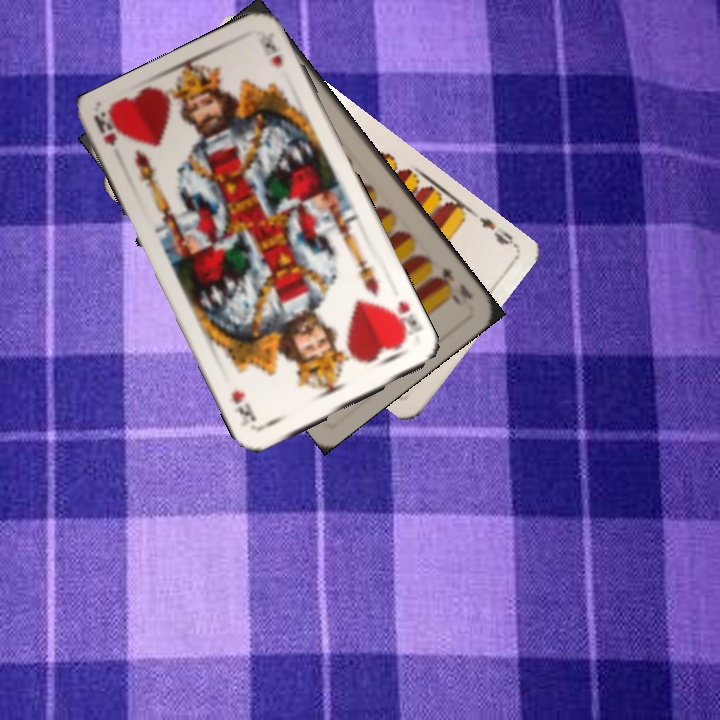E10: (431, 262, 476, 308)
E9: (474, 213, 519, 250)
HK: (384, 297, 420, 344), (90, 110, 122, 149)
